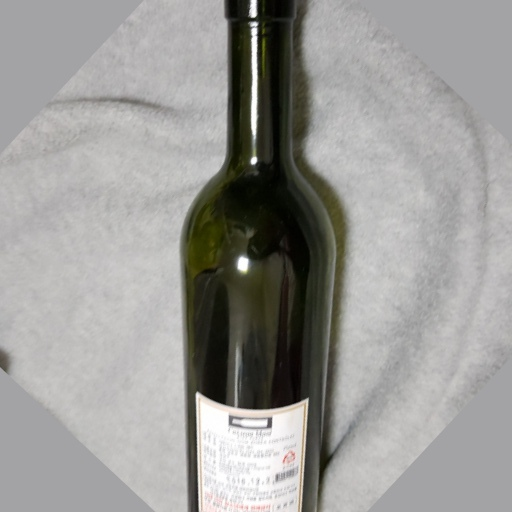Glass_2: (165, 2, 341, 512)
